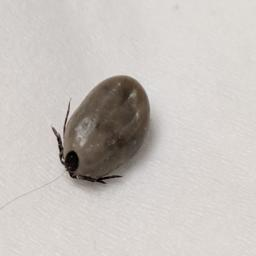Ixodes scapularis: (52, 76, 151, 181)
